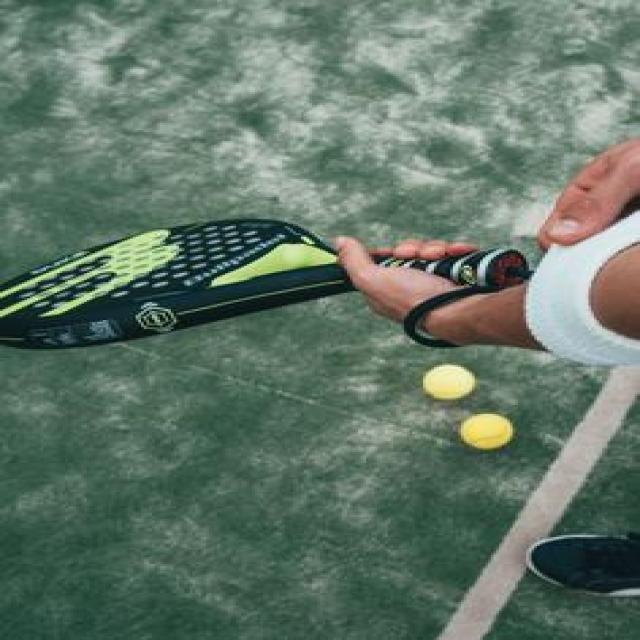tennis: (457, 406, 518, 454), (420, 358, 482, 400)
